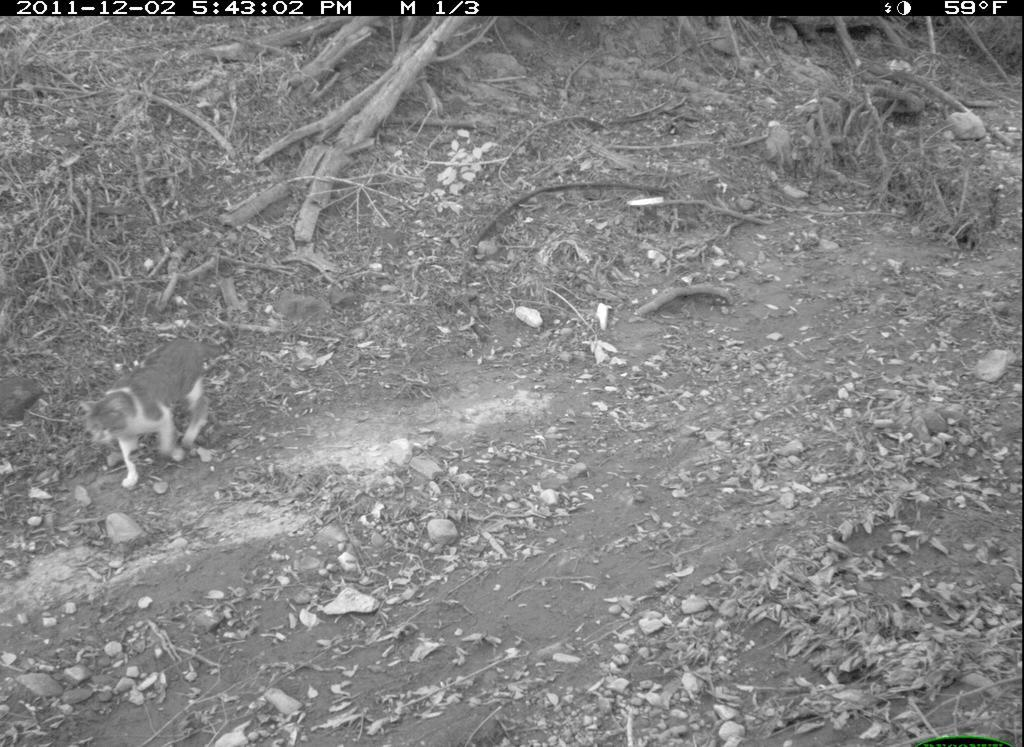cat: (76, 329, 235, 498)
